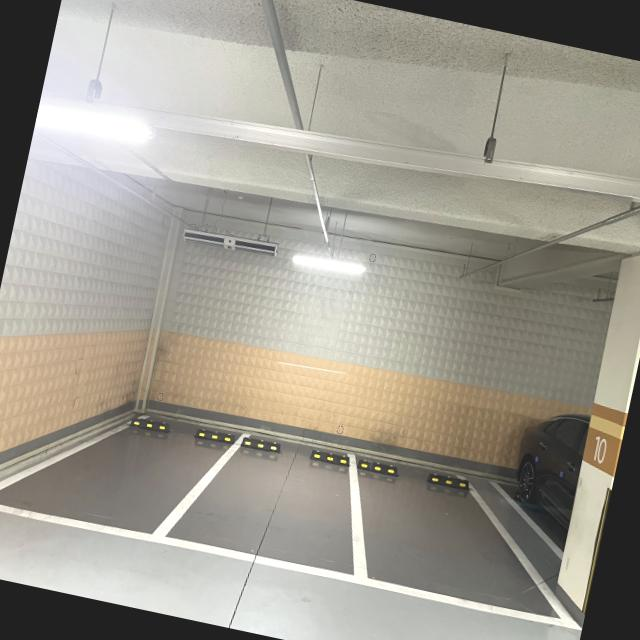free: (349, 447, 582, 627), (145, 432, 360, 590), (0, 408, 248, 544)
